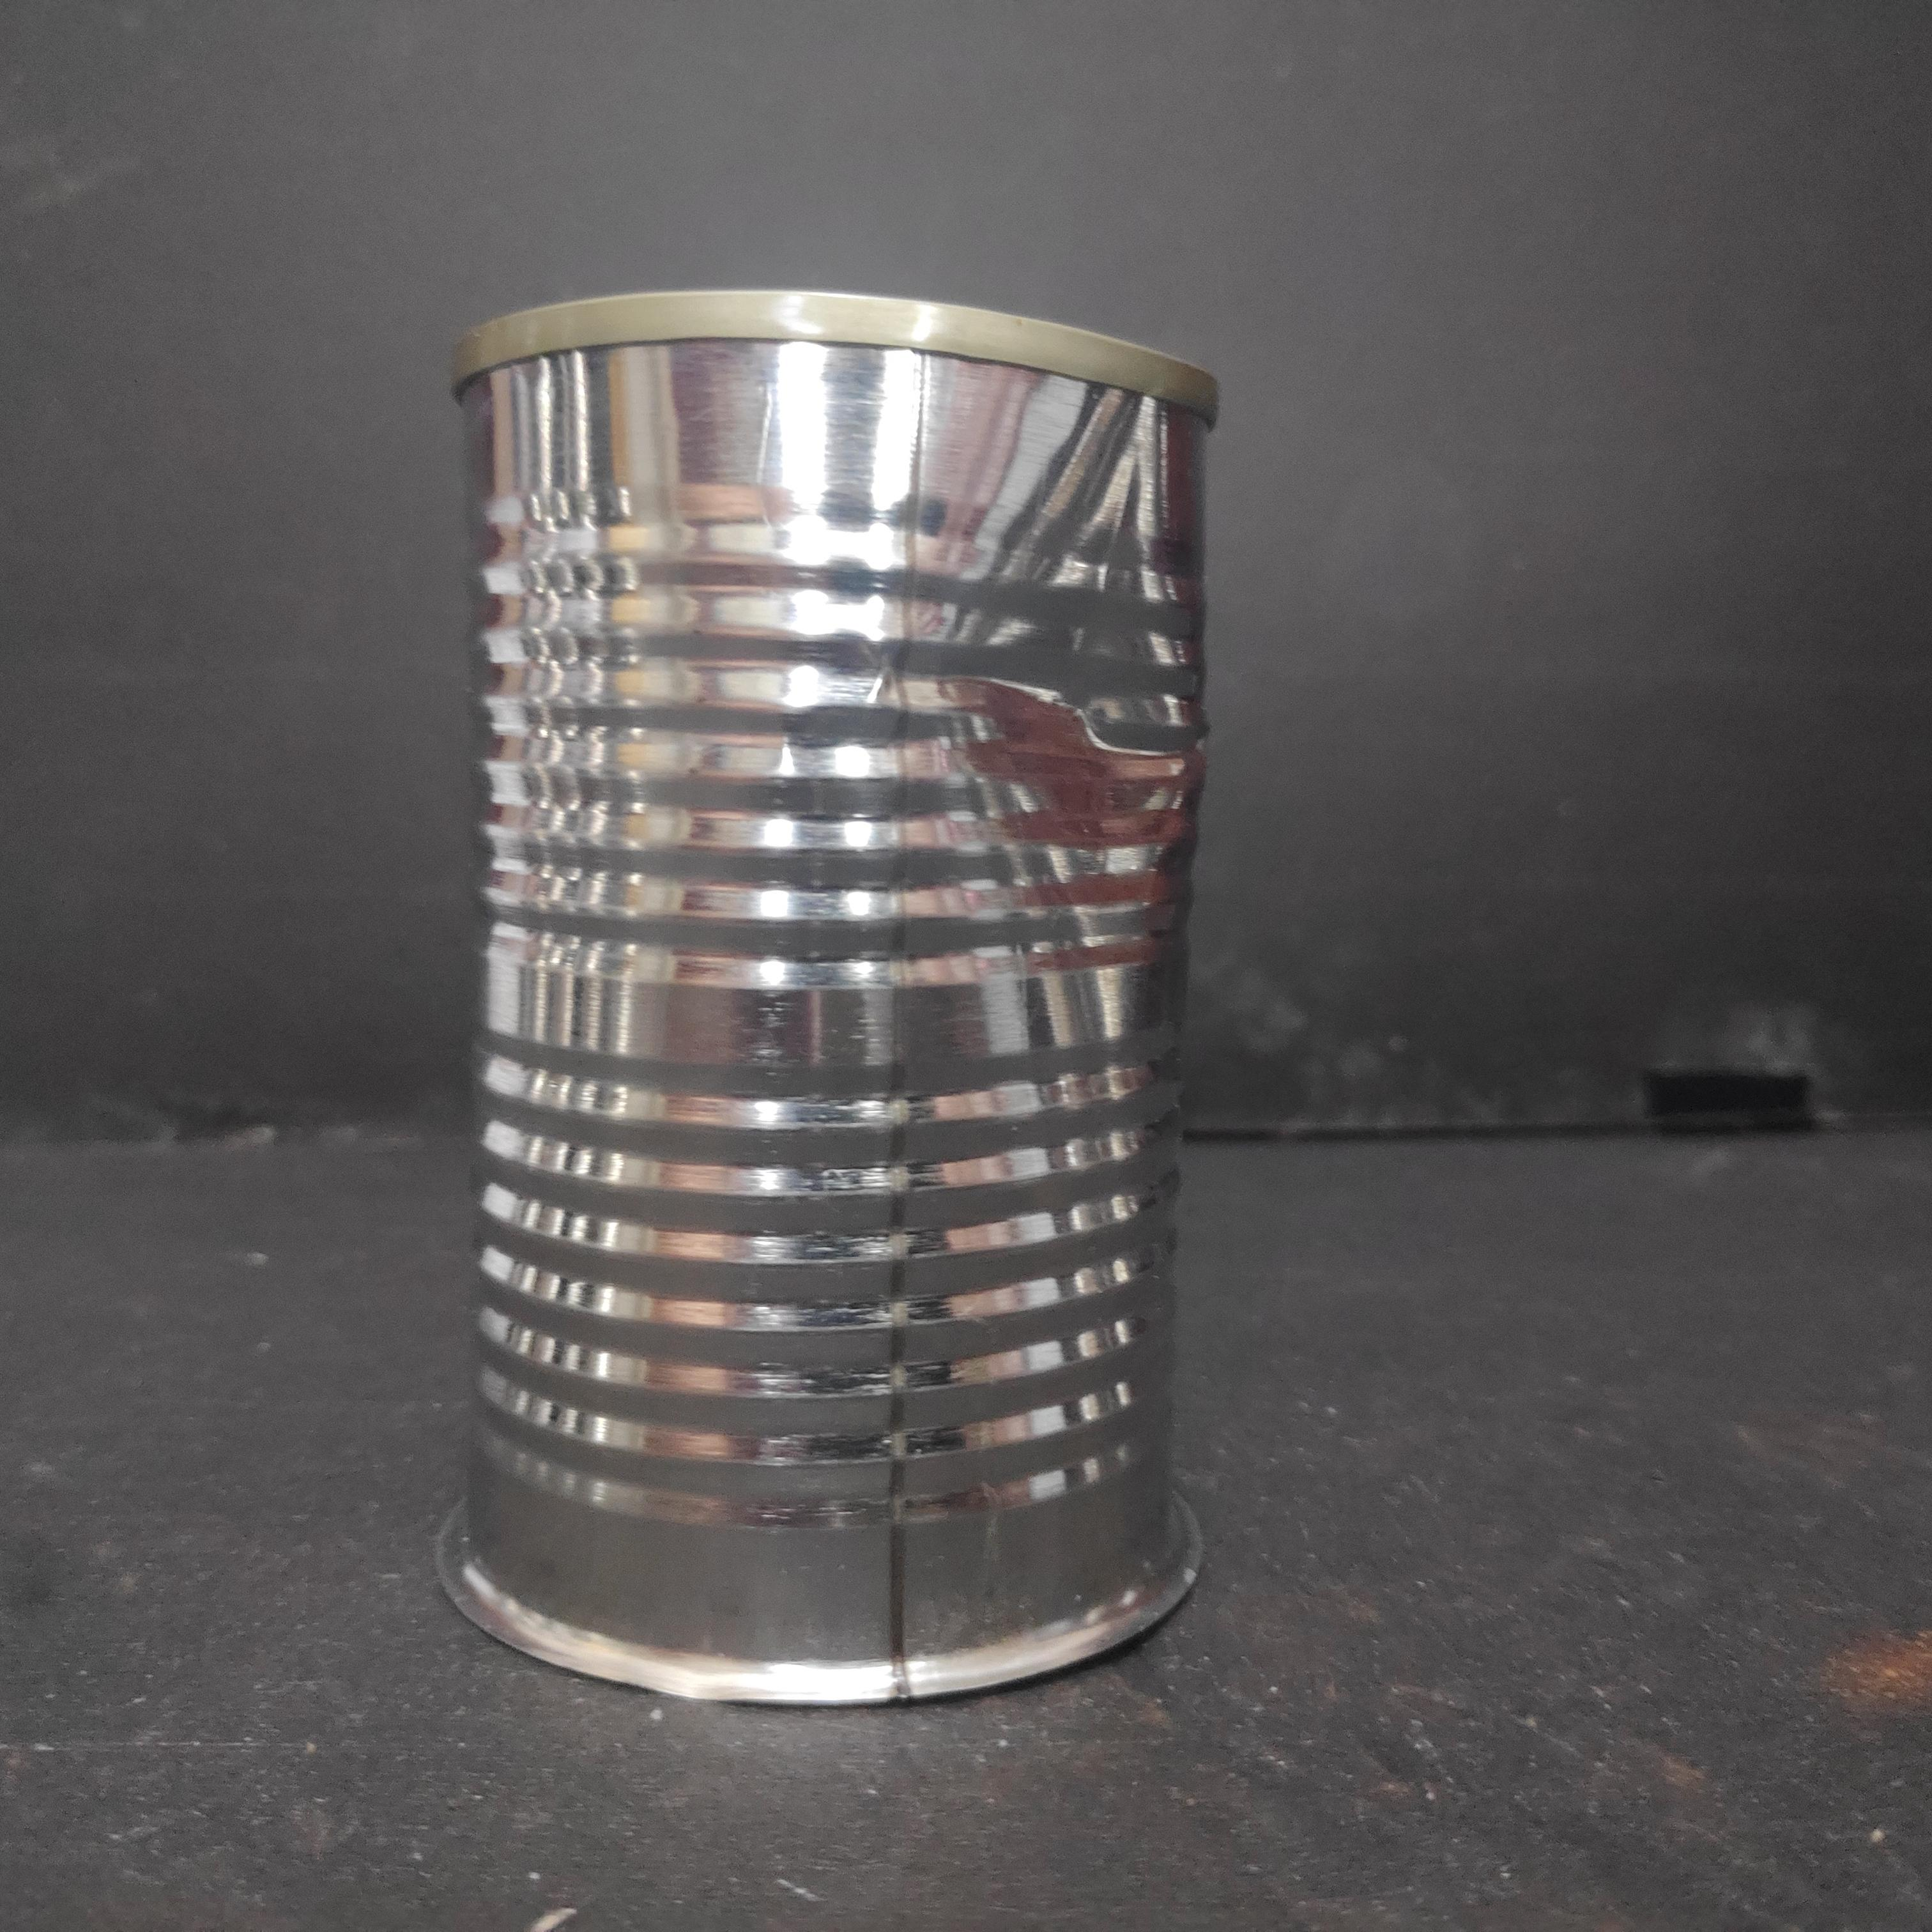Minor Defect: (439, 265, 1224, 1748)
